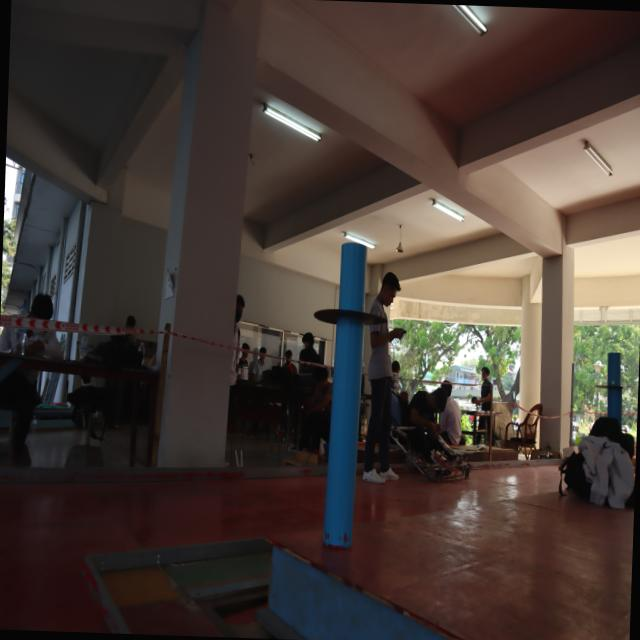pole: (296, 232, 394, 400), (594, 346, 630, 421)
